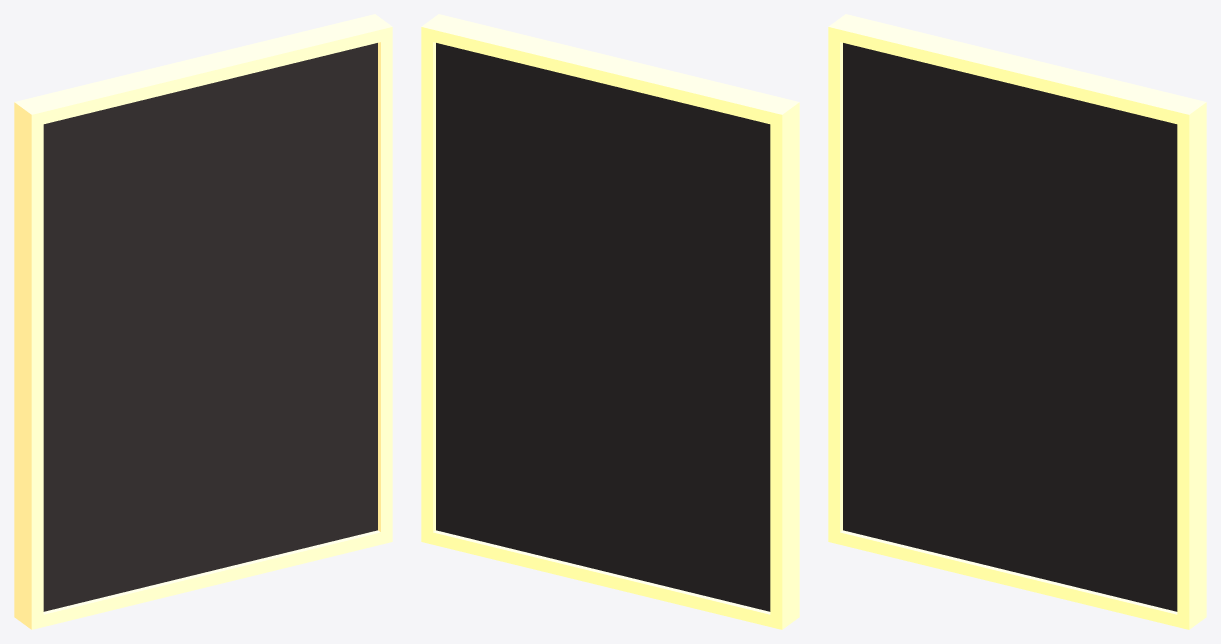
File: mwm_cardbody.glb
The picture shows the model from 3 angles, left to right: view 1: azimuth 30°, elevation 25°; view 2: azimuth 150°, elevation 25°; view 3: azimuth 330°, elevation 25°; orthographic projection.
Bounding box in the file's own units: 1.07 × 1.46 × 0.09.
